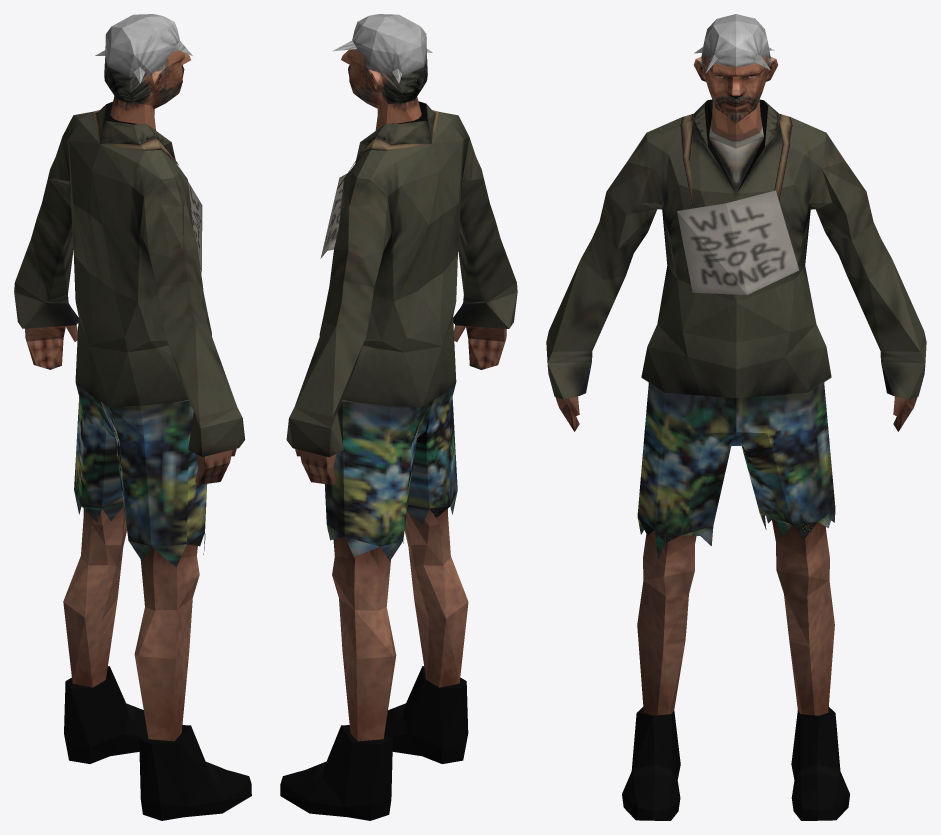
The model's file is vwmotr1.obj.
3 views of the same model, side by side, from view 1: azimuth 30°, elevation 25°; view 2: azimuth 150°, elevation 25°; view 3: azimuth 270°, elevation 25° (orthographic).
Visible parts, largest first — view 1: _Pelvis; view 2: _Pelvis; view 3: _Pelvis.
Boxes of the visible parts, x1,y1,x2,y2 form: _Pelvis: [14, 14, 251, 820]; _Pelvis: [280, 14, 517, 820]; _Pelvis: [546, 14, 926, 820].
Size of the model in its own units: 0.2801 by 1.66 by 0.7368.
Materials: 1 (1 with a texture image).
